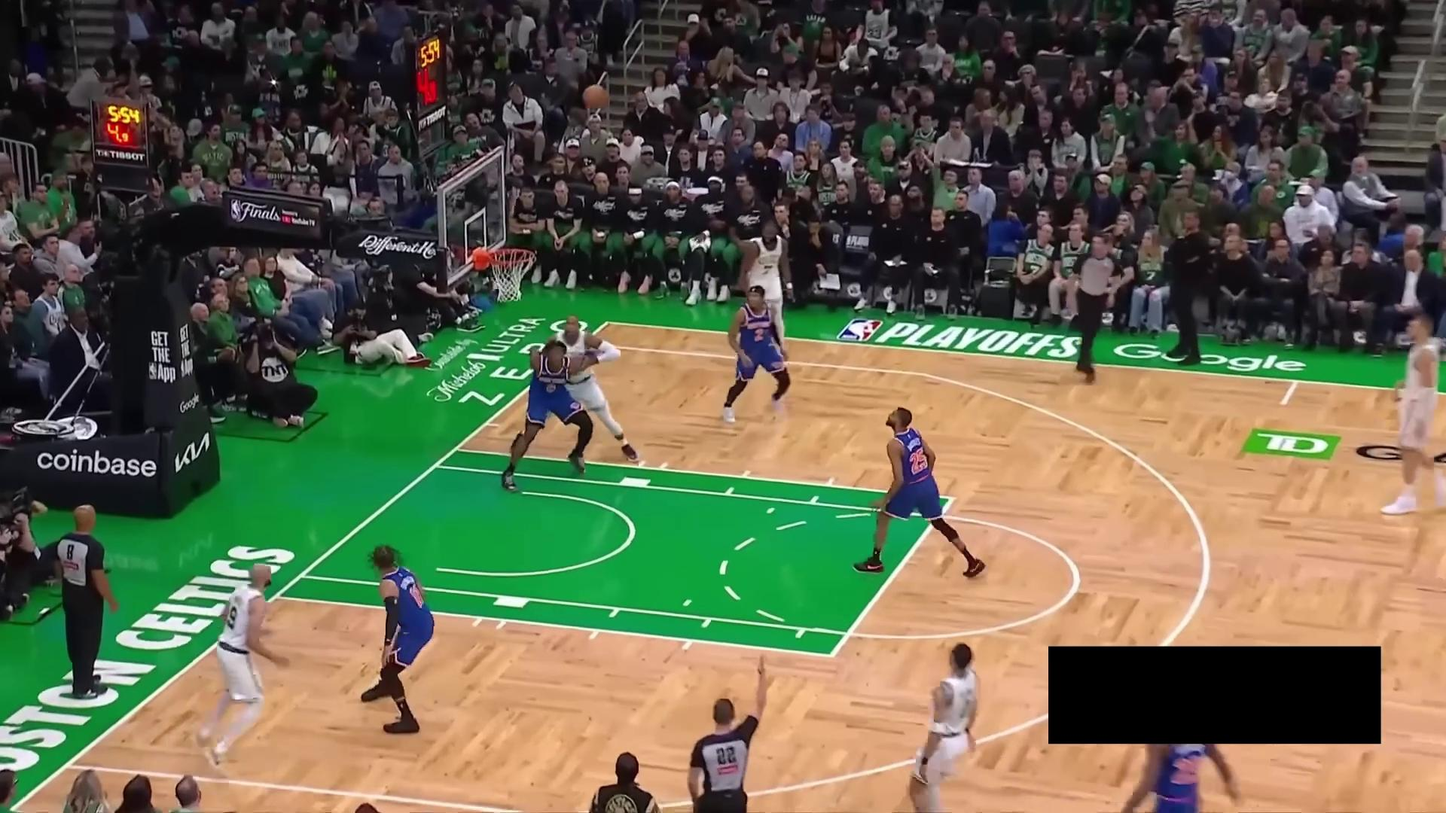ball: (583, 85, 610, 109)
number: (908, 447, 928, 474), (408, 582, 424, 609), (226, 604, 238, 630), (753, 327, 765, 343), (762, 262, 773, 277)
player: (853, 403, 992, 584), (195, 559, 293, 769), (499, 337, 605, 495), (360, 539, 440, 736), (1370, 311, 1446, 516), (541, 314, 644, 464), (903, 642, 981, 813), (720, 282, 796, 423), (1117, 739, 1240, 813), (737, 217, 798, 364), (1065, 229, 1124, 377)
referee: (48, 498, 124, 702), (685, 651, 777, 813)
rim: (490, 247, 538, 266)
